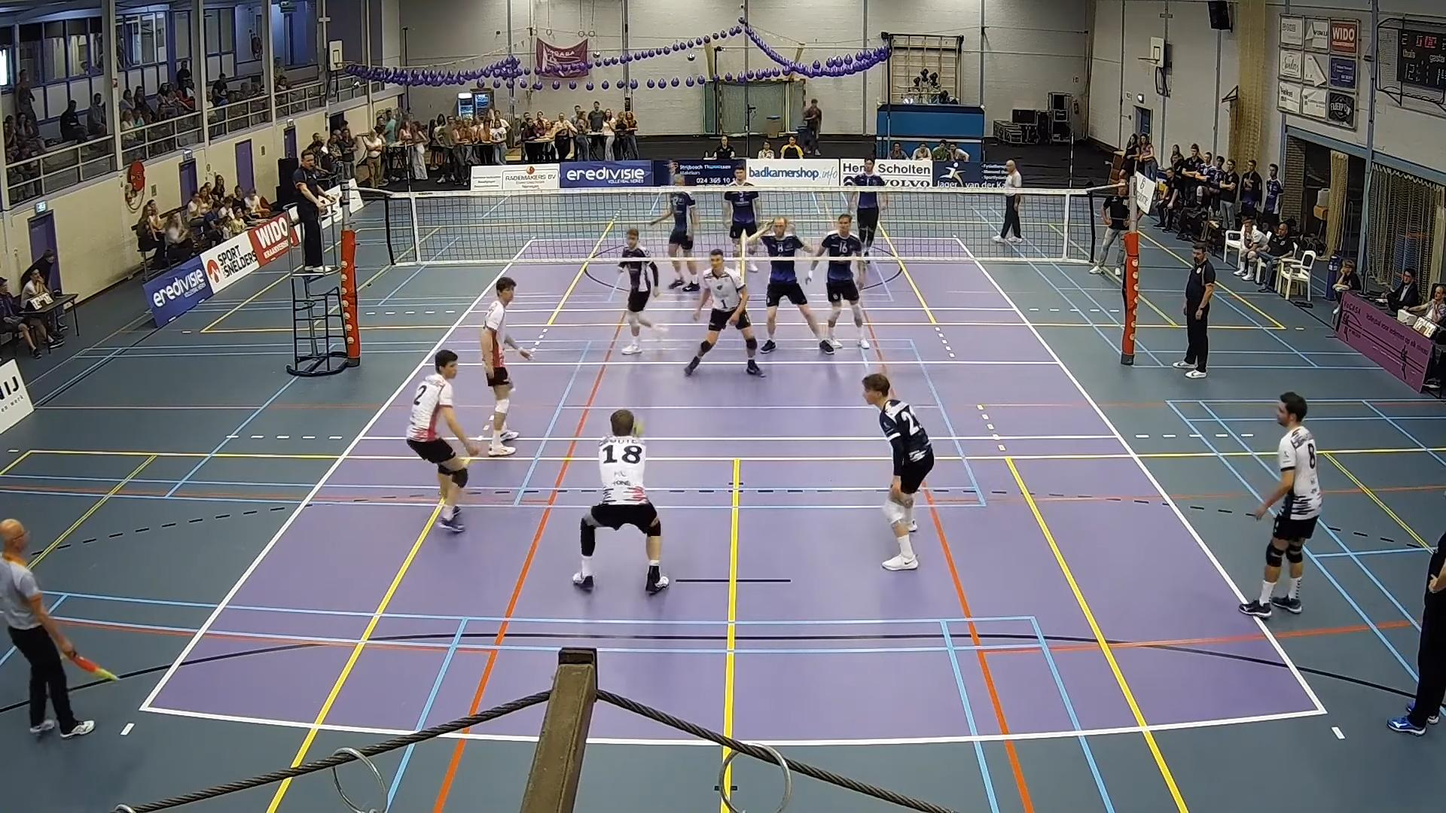ricezione: (572, 405, 677, 598)
